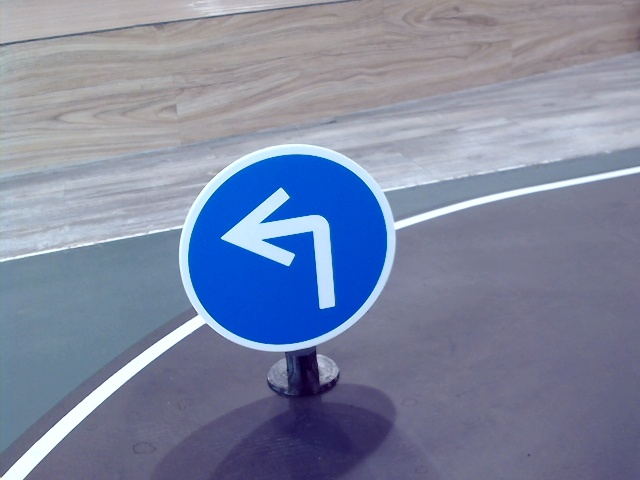turn_left: (220, 183, 348, 311)
